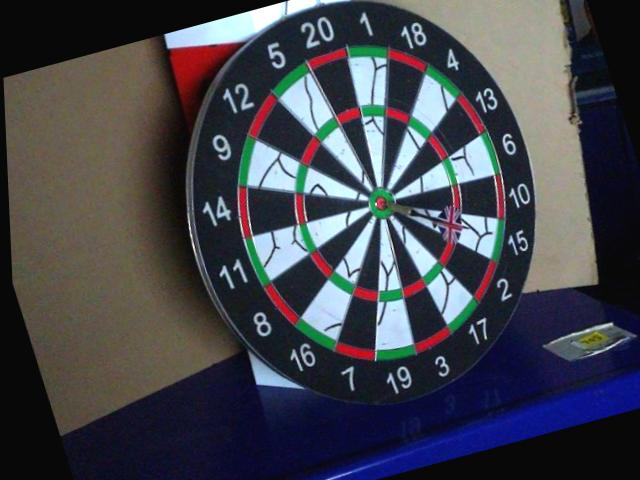bullseye: (374, 190, 396, 211)
